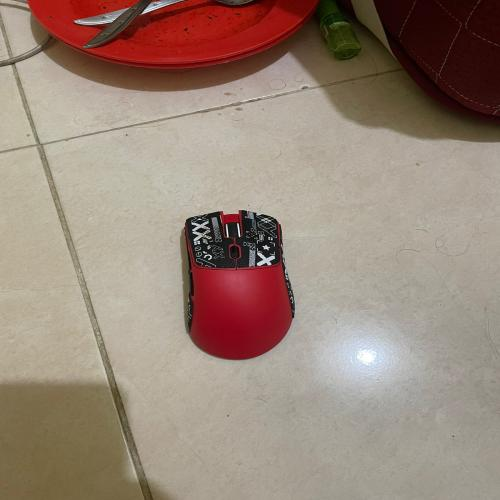Mouse: (177, 203, 306, 371)
